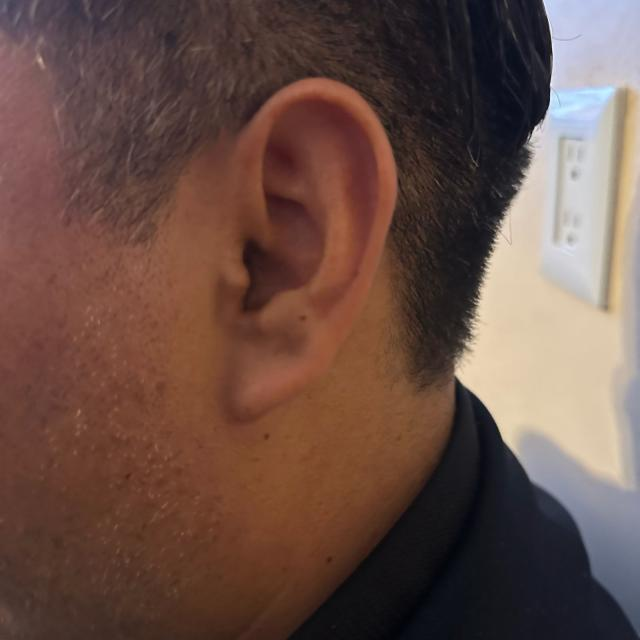ear: (215, 78, 398, 421)
